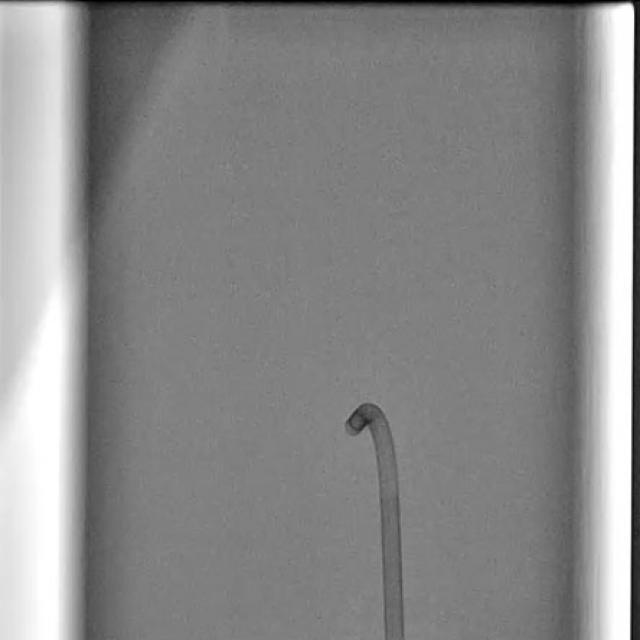bend: (378, 488, 399, 498)
entry: (386, 636, 404, 639)
marker: (349, 412, 367, 430)
tip: (345, 422, 356, 434)
